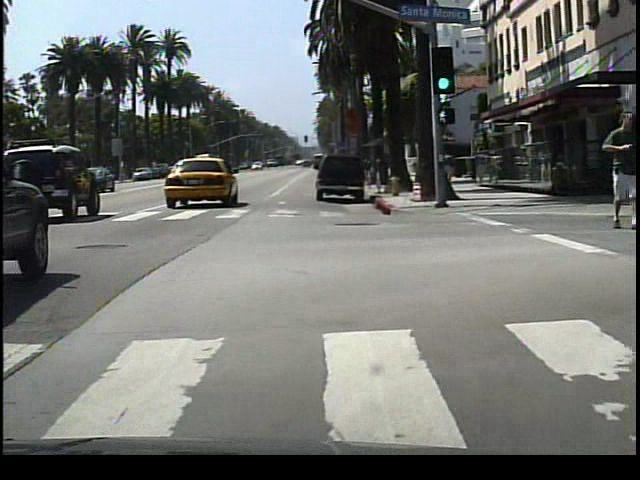person: (599, 107, 640, 230)
